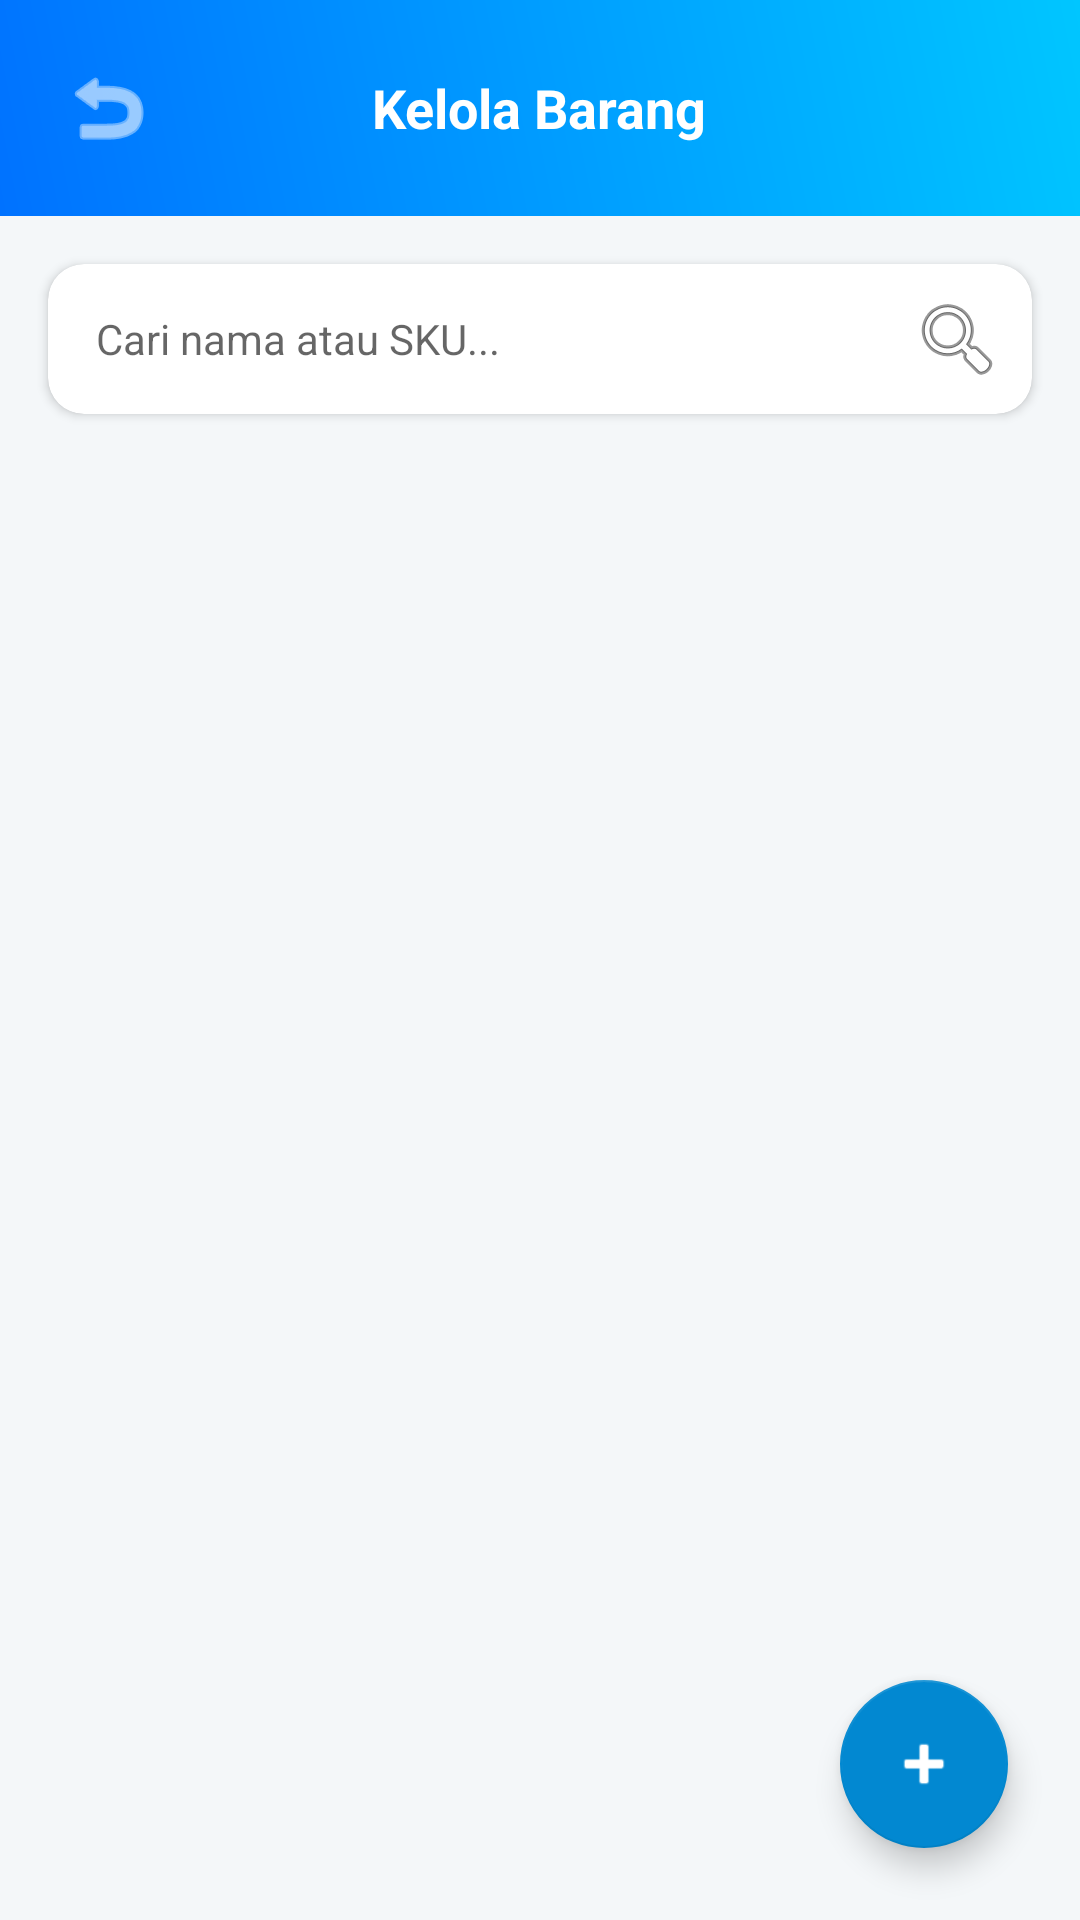

Icons on this 1080 x 1920 Android screen, each with the point to tap as (x=x, y=y):
add: (x=924, y=1764)
revert: (x=109, y=108)
